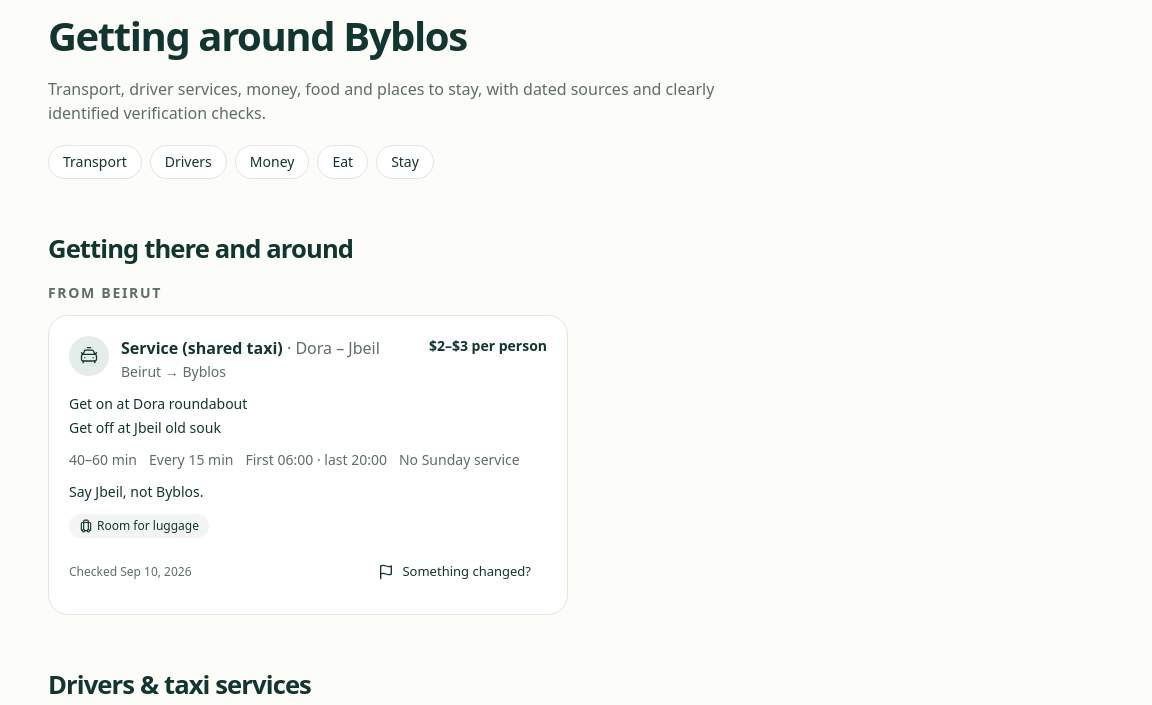
destination services › lets a signed-in traveller flag a card that changed
Step 1. Click the button "Something changed?" → (455, 572), box left=362, top=550, right=547, bottom=594
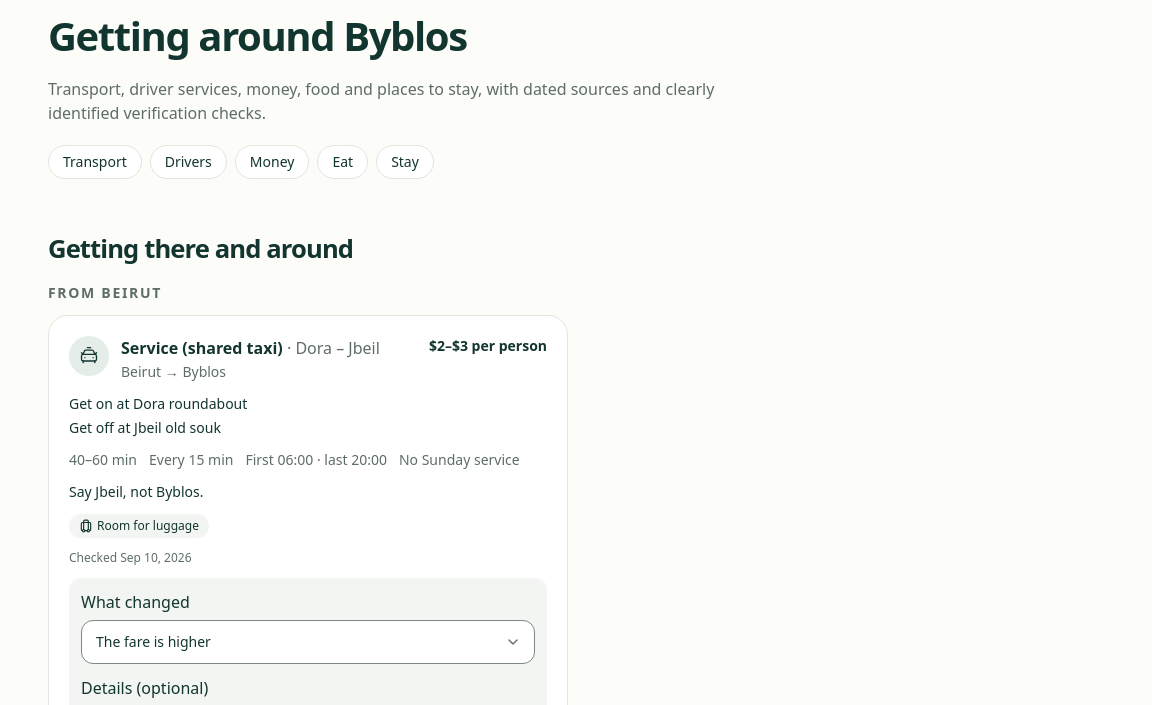
Step 2. Select "It no longer runs" in the dropdown labelled "What changed" → (308, 642), box left=81, top=620, right=535, bottom=664
(page scrolled)
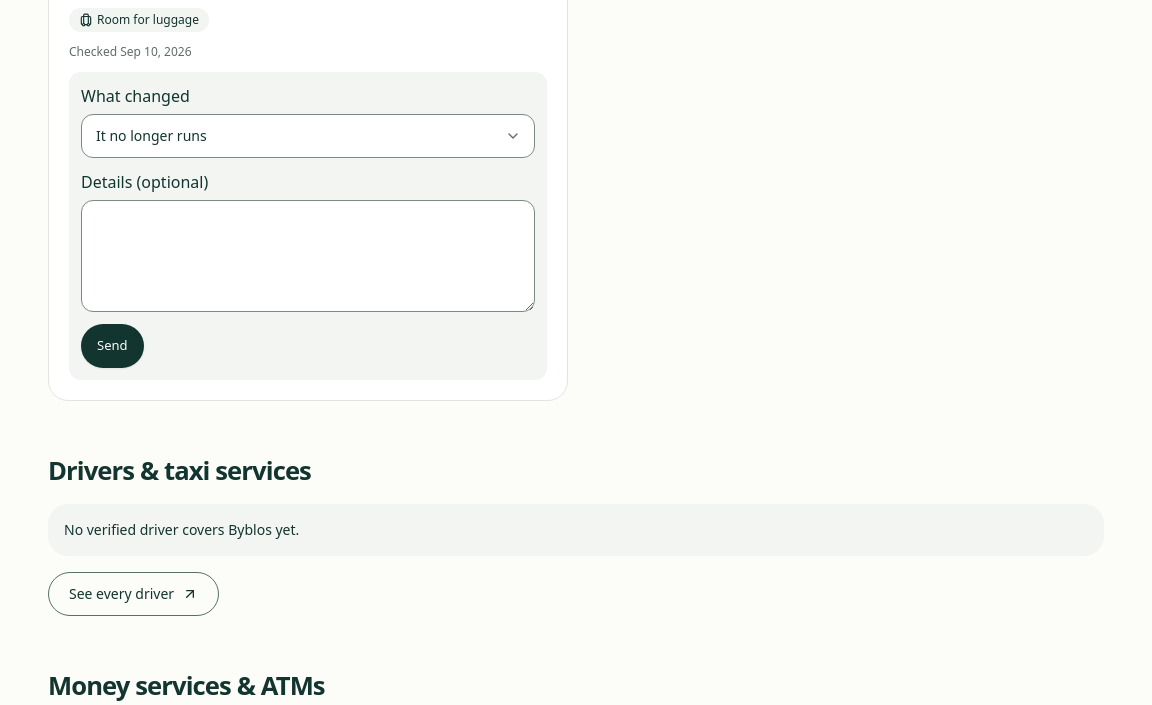
Step 3. Click the button "Send" → (112, 346), box left=81, top=324, right=144, bottom=368
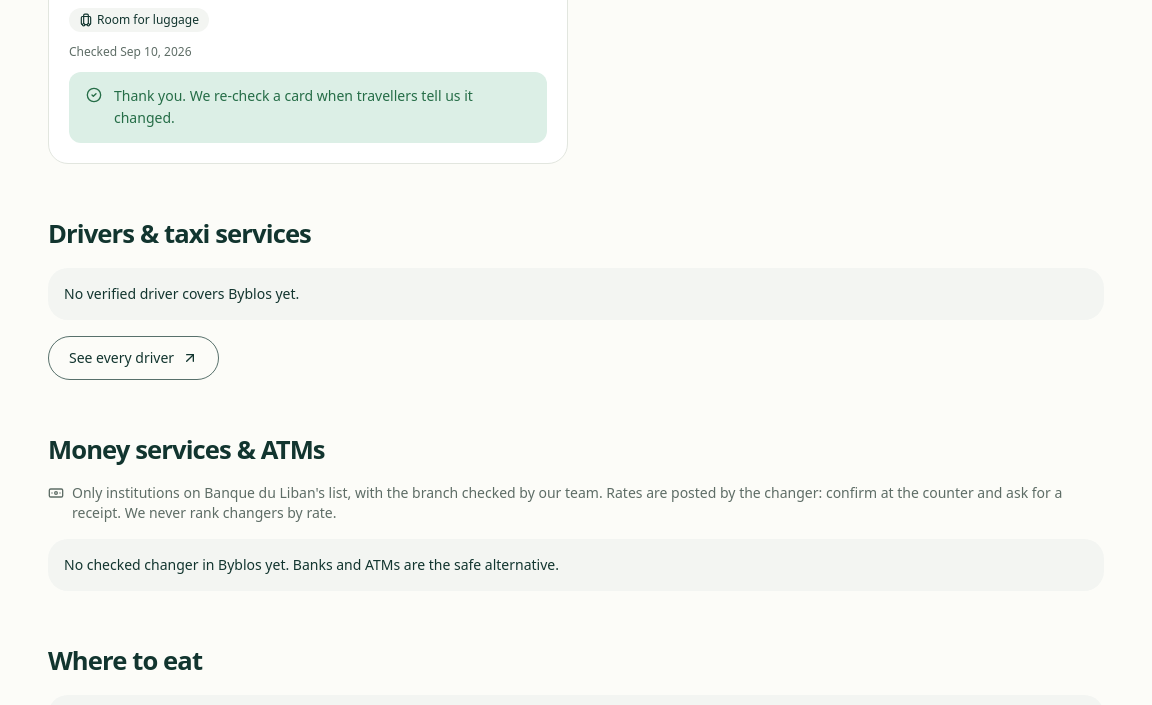
Now the text "Thank you. We re-check a card when travellers tell us it changed." is shown, box left=114, top=85, right=530, bottom=130
